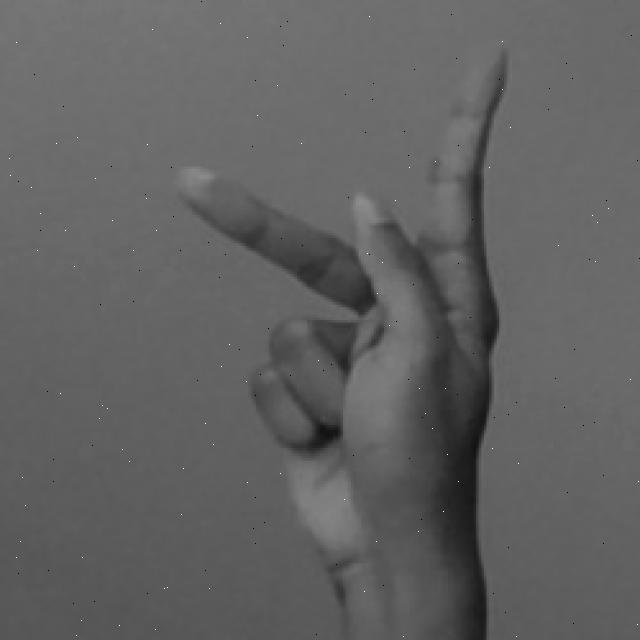K: (173, 40, 528, 640)
